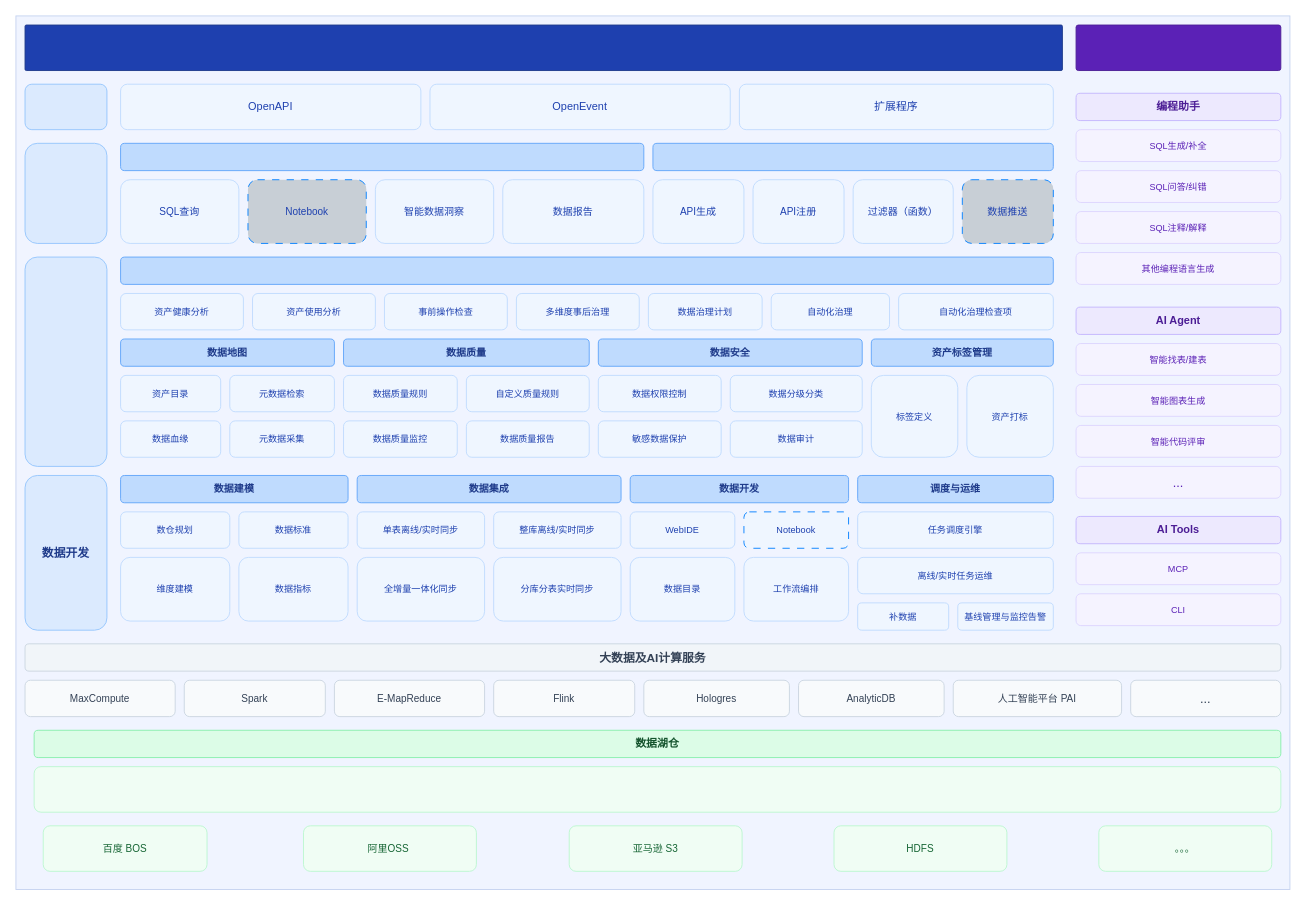
The diagram is 1306 pixels wide and 905 high, and some of its shapes have lost their labels. Each missing label, with the centre of its shape:
"DataOps Copilot" belongs at point 1178,47.
"Hive / Data Lake （Paimon）" belongs at point 657,789.
"一站式智能数据开发治理平台（DIP）" belongs at point 543,47.
"开放平台" belongs at point 65,106.
"数据分析" belongs at point 382,156.
"数据服务" belongs at point 852,156.
"数据治理" belongs at point 65,361.
"数据消费" belongs at point 65,192.
"数据资产治理" belongs at point 586,270.
